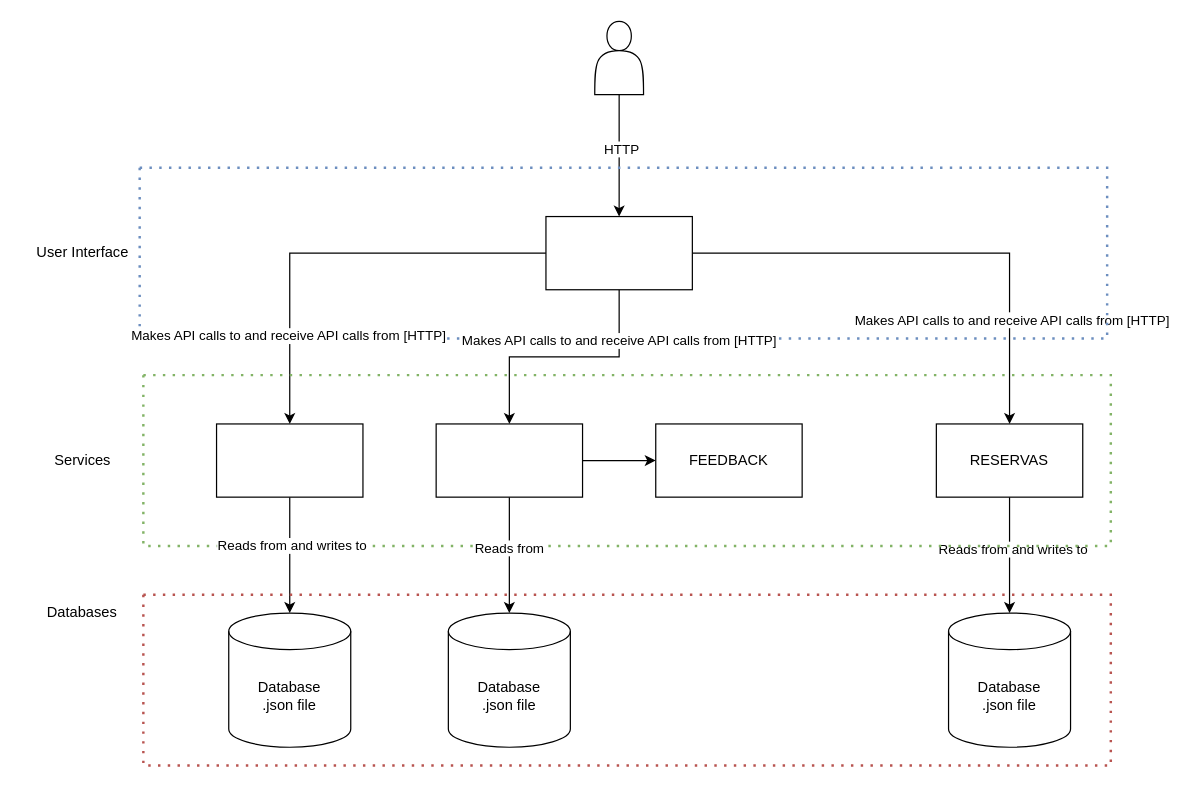
Image size: 1190x789. Some labels were removed from this diagram. Here are the shapes that lost their labels. From the top down, the box of each, then its label:
(545, 215, 692, 290): FRONTEND
(215, 423, 363, 497): AUNTENTICACION
(435, 423, 583, 497): MENU
